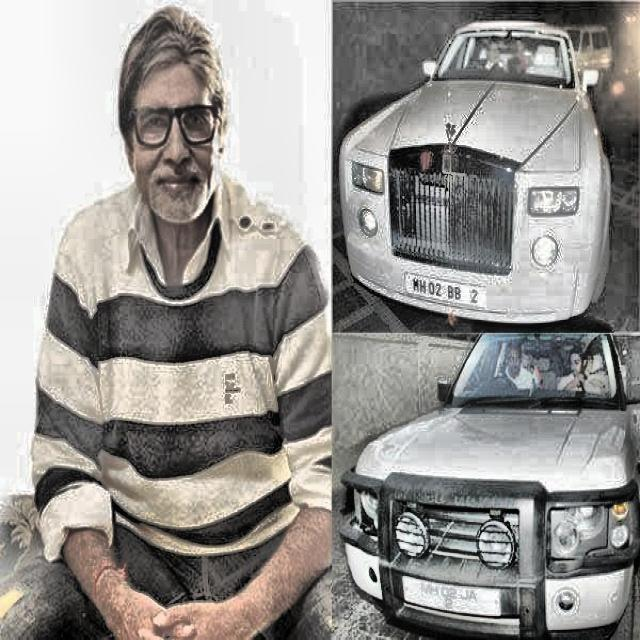license_plate: (409, 578, 484, 615), (409, 275, 482, 308)
